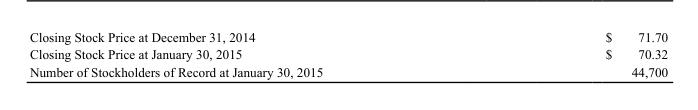table: (28, 28, 667, 78)
table column: (28, 28, 463, 78), (463, 28, 667, 78)
table row: (28, 28, 667, 45), (28, 45, 667, 62), (28, 62, 667, 78)
